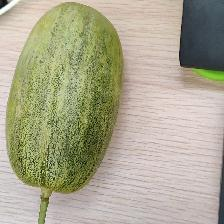gua: (24, 18, 97, 194)
